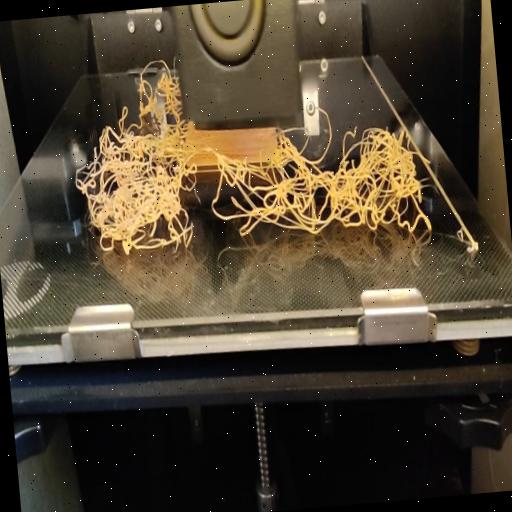spaghetti: (70, 100, 442, 274), (112, 48, 183, 128)
